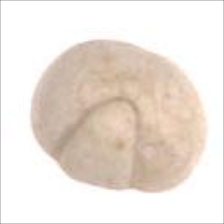L5: (55, 97, 142, 190)
L6: (30, 38, 207, 195)
